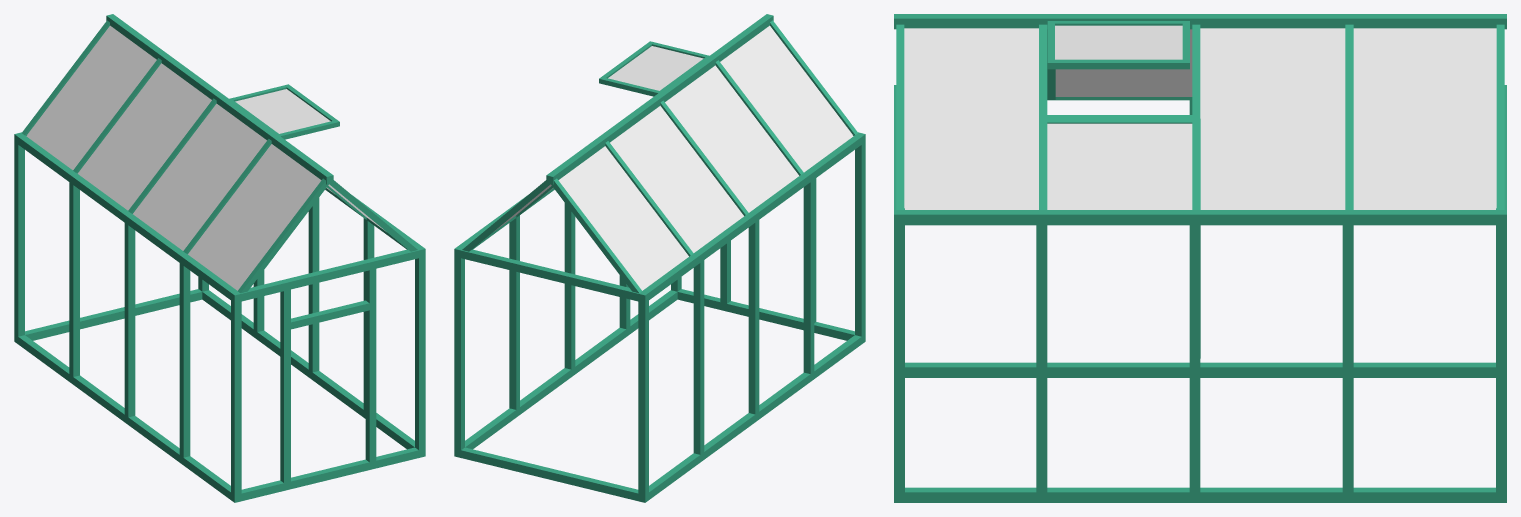
File: greenhouse_003.glb
3 renders of one model, left to right at view 1: azimuth 30°, elevation 25°; view 2: azimuth 150°, elevation 25°; view 3: azimuth 270°, elevation 25°, orthographic. The views are drawn at different scales.
Visible parts, largest first — view 1: greenhouse_003; view 2: greenhouse_003; view 3: greenhouse_003.
Part boxes in pixels (x1,y1,x2,y2): greenhouse_003: [14, 14, 425, 502]; greenhouse_003: [454, 14, 865, 502]; greenhouse_003: [894, 14, 1506, 502].
Bounding box in the file's own units: 2.31 × 3.5 × 4.61.
Materials: 1 (1 with a texture image).
